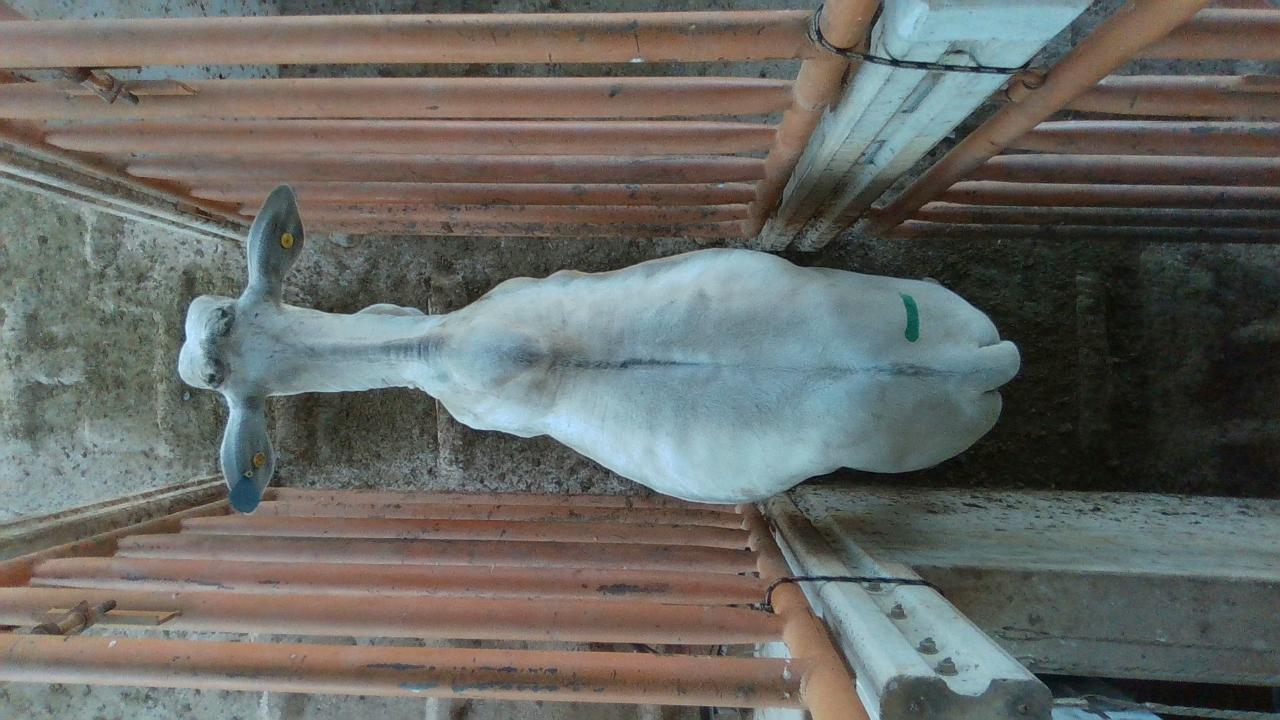cattle: (175, 182, 1022, 511)
